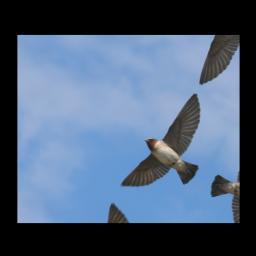Swallow: (120, 82, 230, 211)
